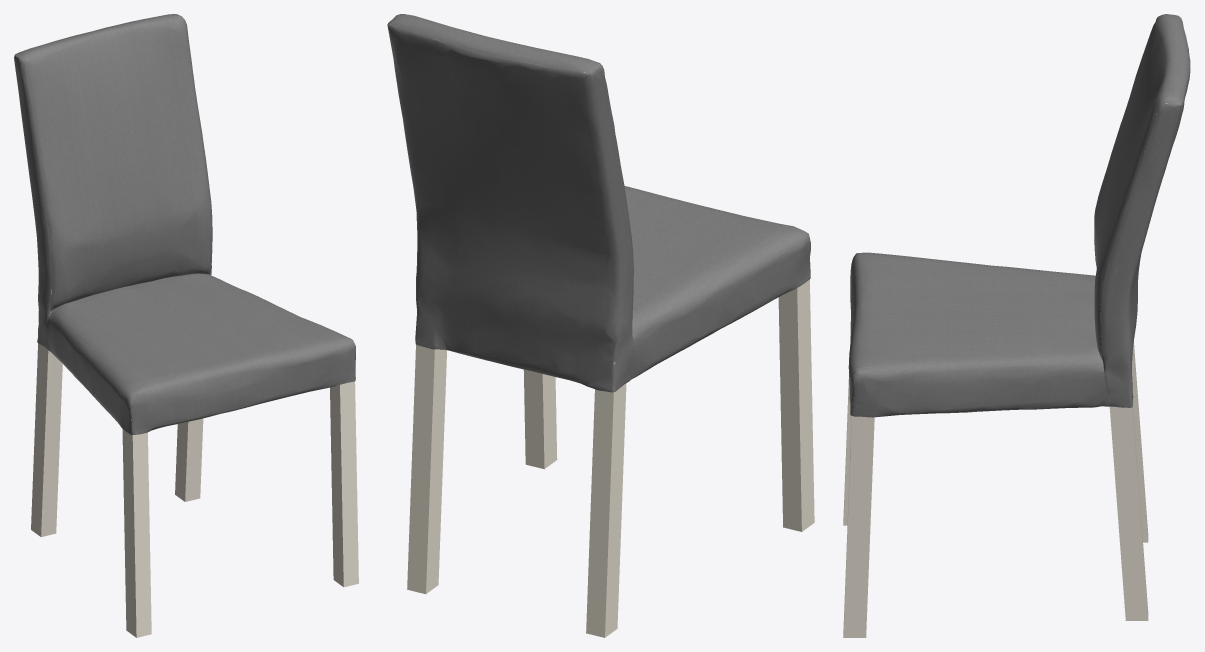
Rendered from 23 - KÄTTIL Chair - whiteKnisa light grey.glb.
The picture shows the model from 3 angles, left to right: view 1: azimuth 30°, elevation 25°; view 2: azimuth 150°, elevation 25°; view 3: azimuth 270°, elevation 25°; orthographic projection. The views are drawn at different scales.
Visible parts, largest first — view 1: Mesh_2; view 2: Mesh_2; view 3: Mesh_2.
Boxes of the visible parts, box(x1,y1,x2,y2) form: Mesh_2: box(14, 14, 358, 637); Mesh_2: box(387, 14, 814, 637); Mesh_2: box(843, 14, 1190, 637).
Bounding box in the file's own units: 0.4522 × 0.8905 × 0.5353.
Materials: 2 (2 with a texture image).
